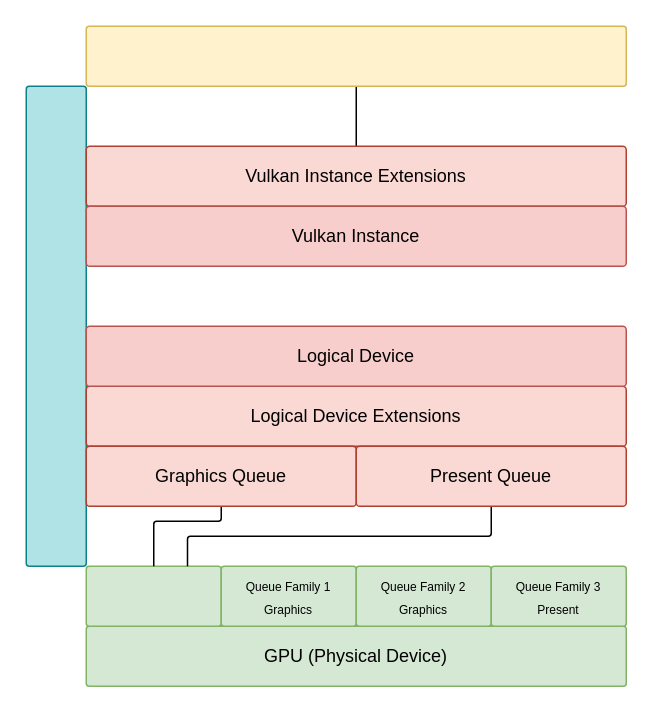
This 653x713 diagram has some shape labels left out. Each missing label, with the centre of its shape:
"CPU" belongs at point (55, 325).
"Operating System (OS)" belongs at point (355, 55).
"Queue Family 0 Graphics + Present" belongs at point (153, 595).
